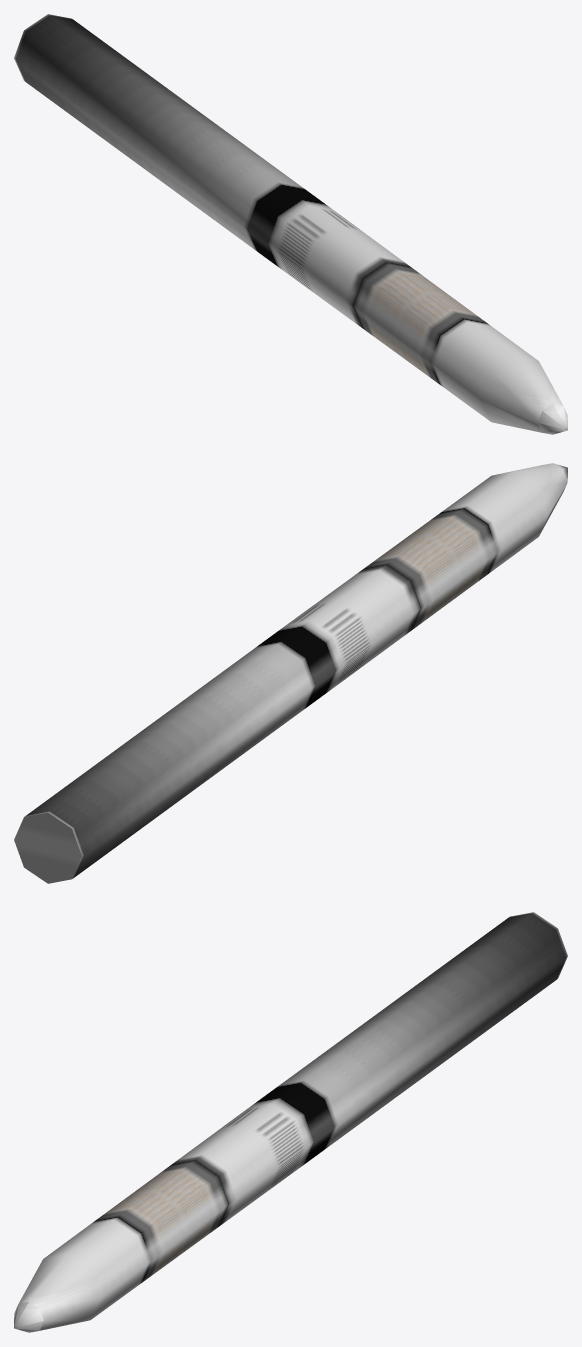
File: rocket.fbx
3 renders of one model, top to bottom at view 1: azimuth 30°, elevation 25°; view 2: azimuth 150°, elevation 25°; view 3: azimuth 330°, elevation 25°, orthographic.
Parts seen in each view (by area): view 1: rocket; view 2: rocket; view 3: rocket.
Part boxes in pixels (x1,y1,x2,y2): rocket: (14, 14, 567, 434); rocket: (14, 463, 567, 883); rocket: (14, 912, 567, 1332).
Bounding box in the file's own units: 8 × 8 × 106.
